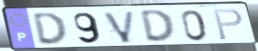0: (180, 9, 209, 42)
9: (73, 12, 102, 45)
D: (138, 8, 177, 44), (31, 11, 70, 47)
P: (212, 8, 245, 42)
V: (101, 10, 137, 45)
